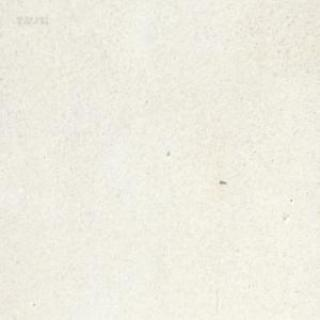Nailtrack_idkeyframe: (218, 179, 226, 184)
